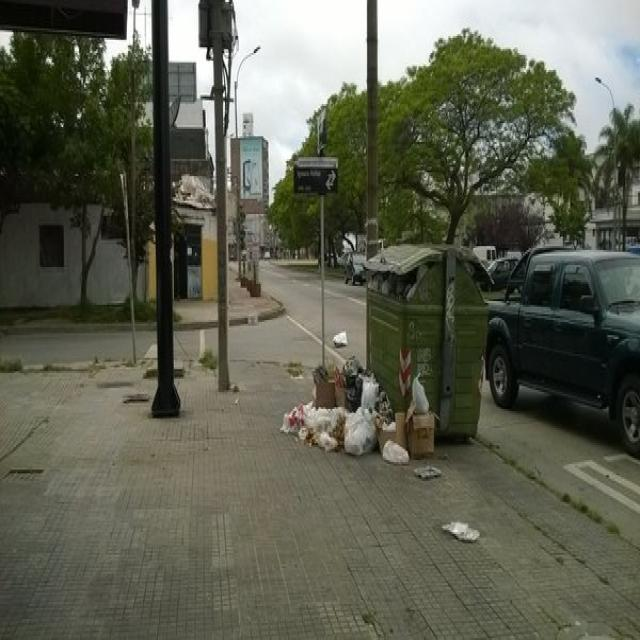garbage: (281, 368, 374, 470), (378, 411, 440, 475), (369, 273, 418, 305), (437, 513, 478, 551), (374, 384, 401, 440), (326, 320, 351, 360)
